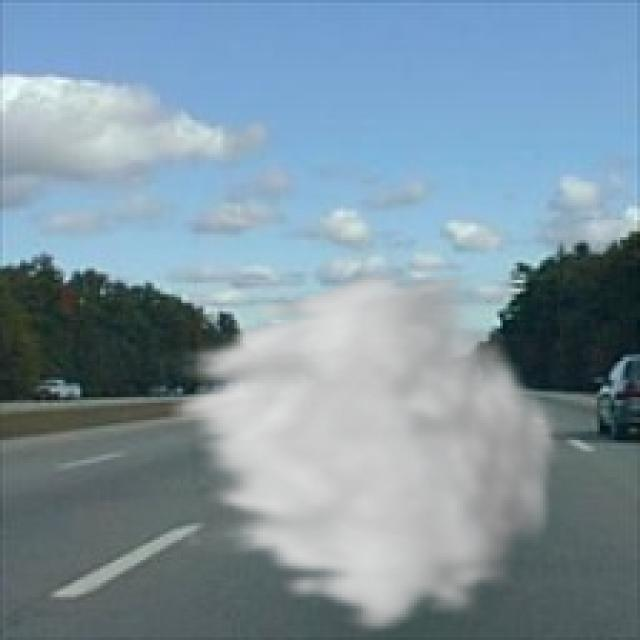Smoke: (154, 268, 566, 638)
